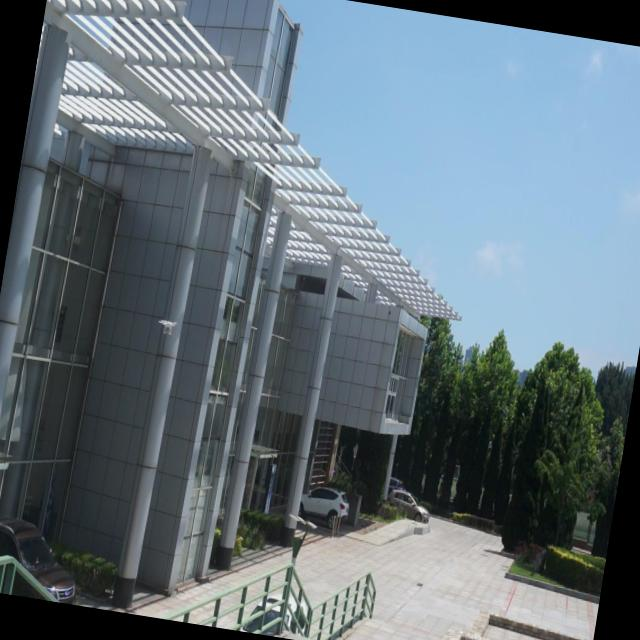drone: (156, 316, 180, 341)
